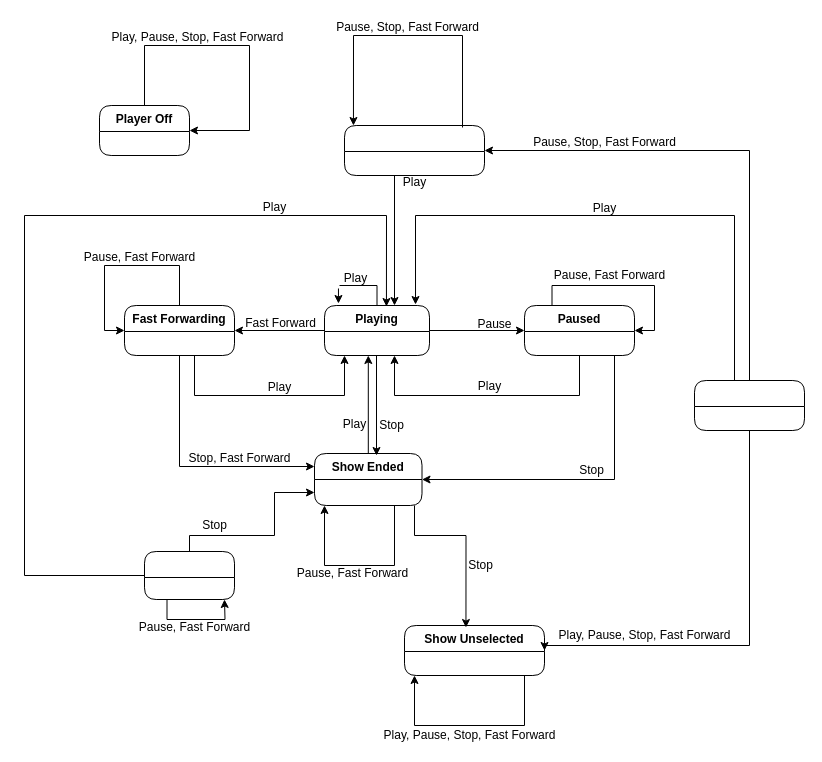
Image size: 822x762. Some labels were removed from this diagram. Each missing label, with the centre of its shape:
"Rewinding" belongs at [189,575].
"Screen Saver" belongs at [749,405].
"Show Selected" belongs at [414,150].
